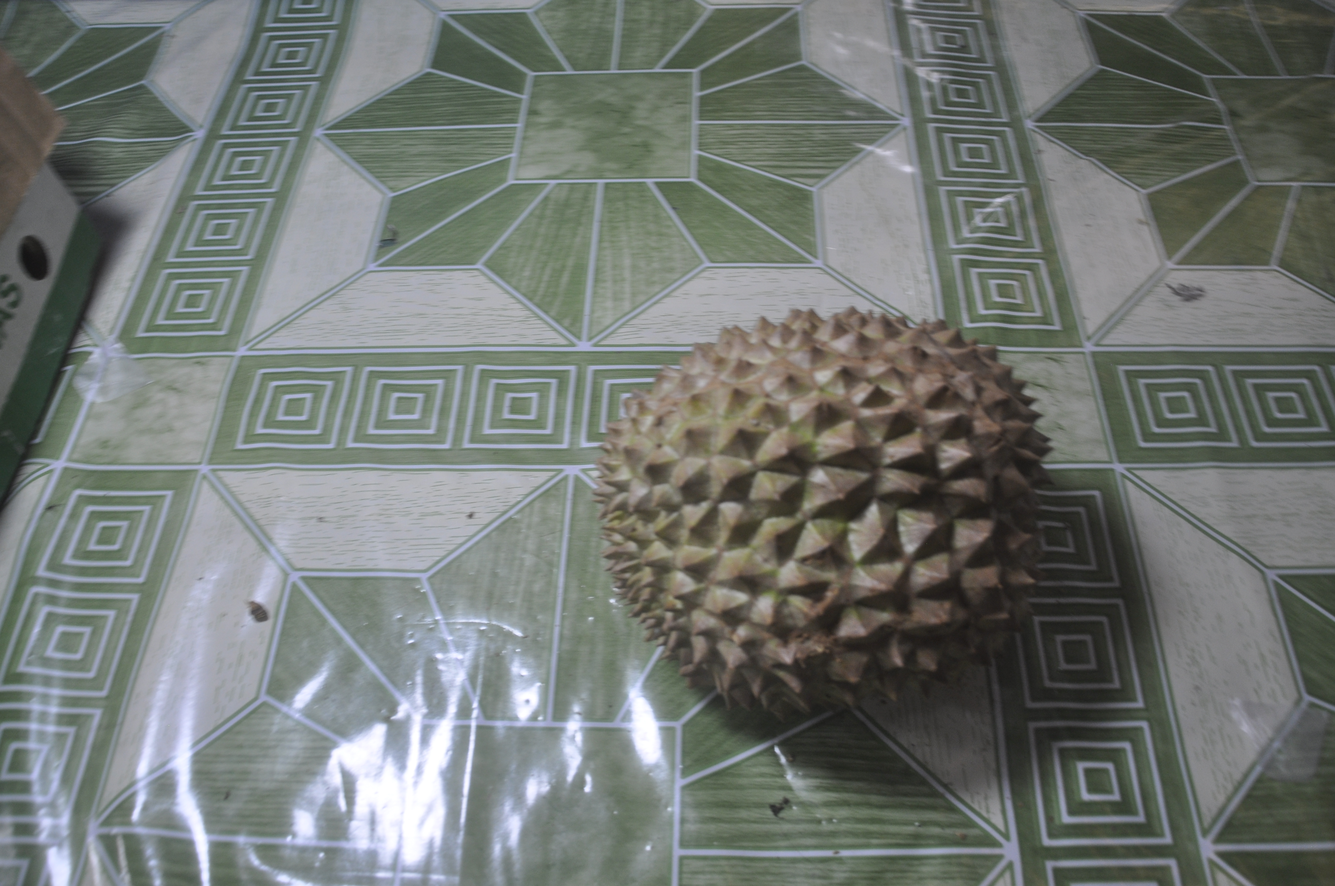mature: (595, 308, 1050, 719)
